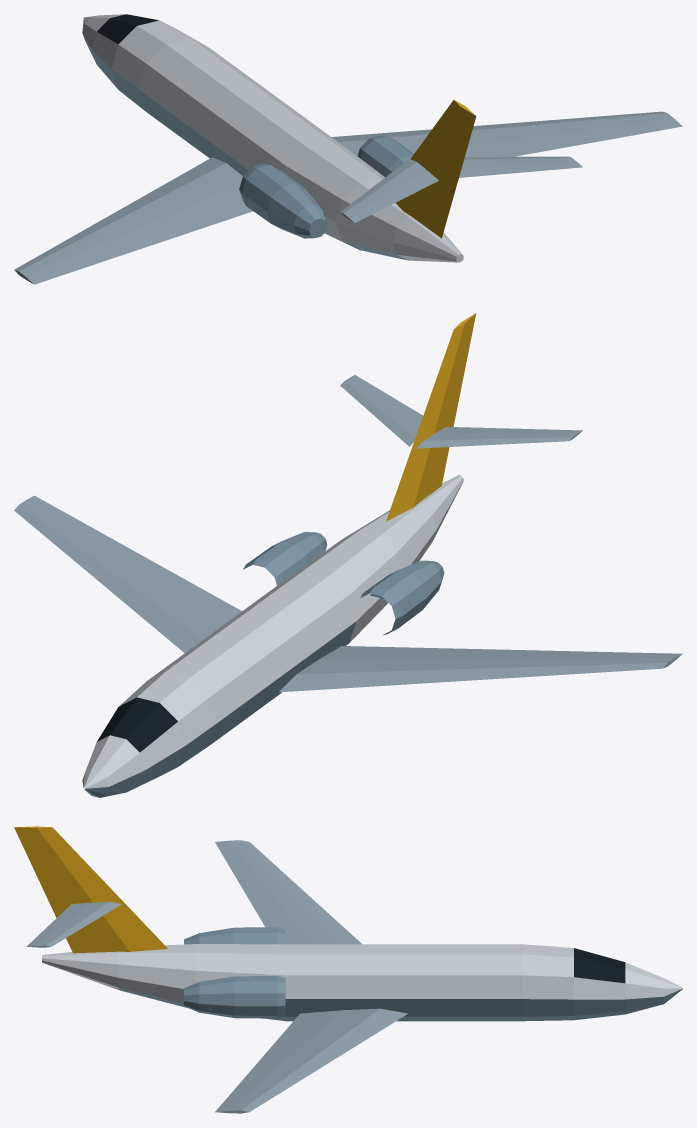
The picture shows the model from 3 angles, top to bottom: view 1: azimuth 30°, elevation 25°; view 2: azimuth 150°, elevation 25°; view 3: azimuth 270°, elevation 25°; orthographic projection. The views are drawn at different scales.
Parts seen in each view (by area): view 1: lod0; view 2: lod0; view 3: lod0.
Part boxes in pixels (x1=…): lod0: x1=14, y1=14, x2=682, y2=284; lod0: x1=14, y1=313, x2=682, y2=797; lod0: x1=14, y1=826, x2=682, y2=1113.
Size of what is drawn, in the model's own units: 0.9554 by 0.3115 by 1.
